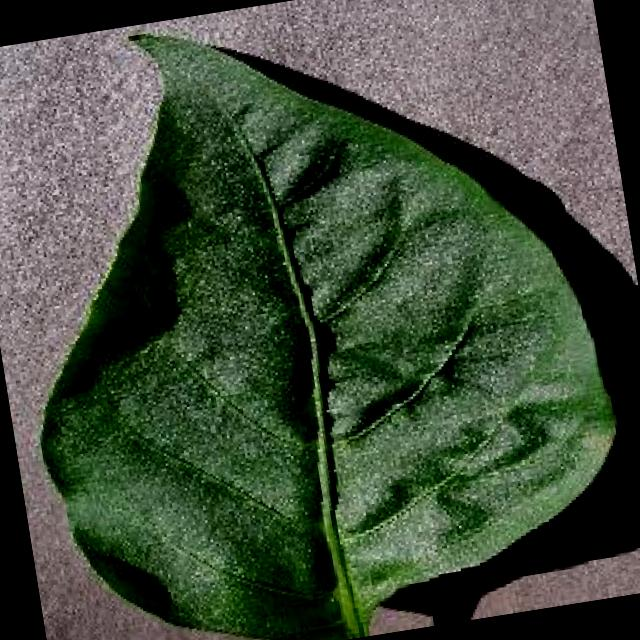Leaf: (168, 90, 590, 520)
